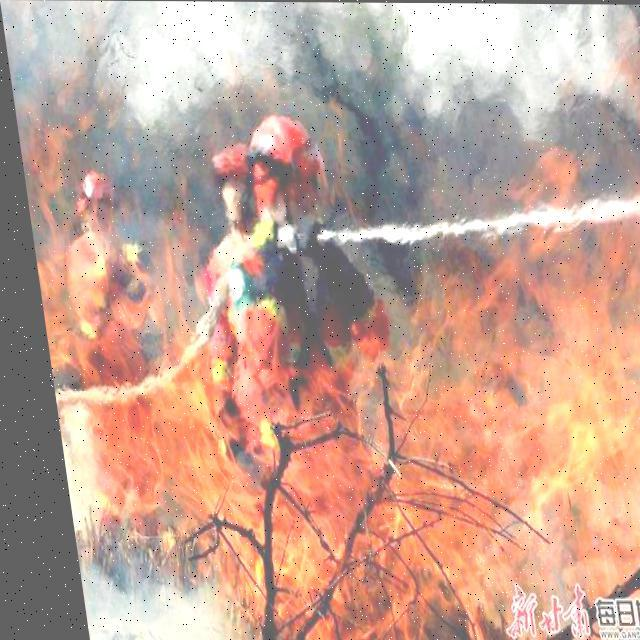Fire: (19, 92, 639, 632)
